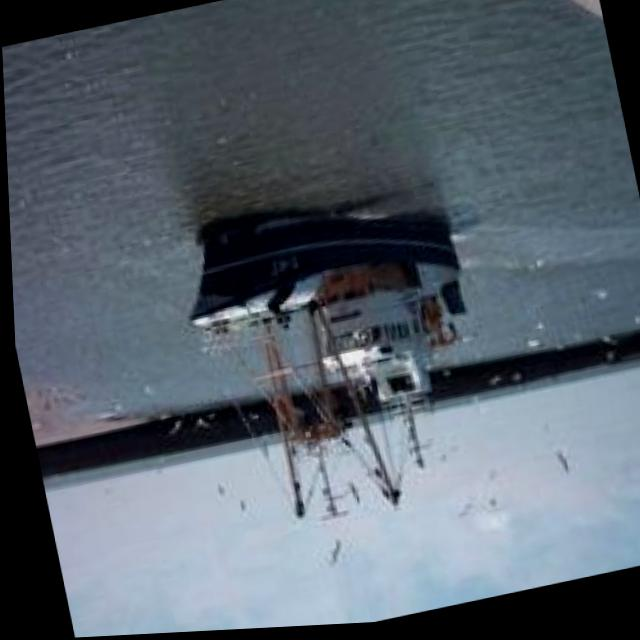ship2: (186, 216, 465, 529)
